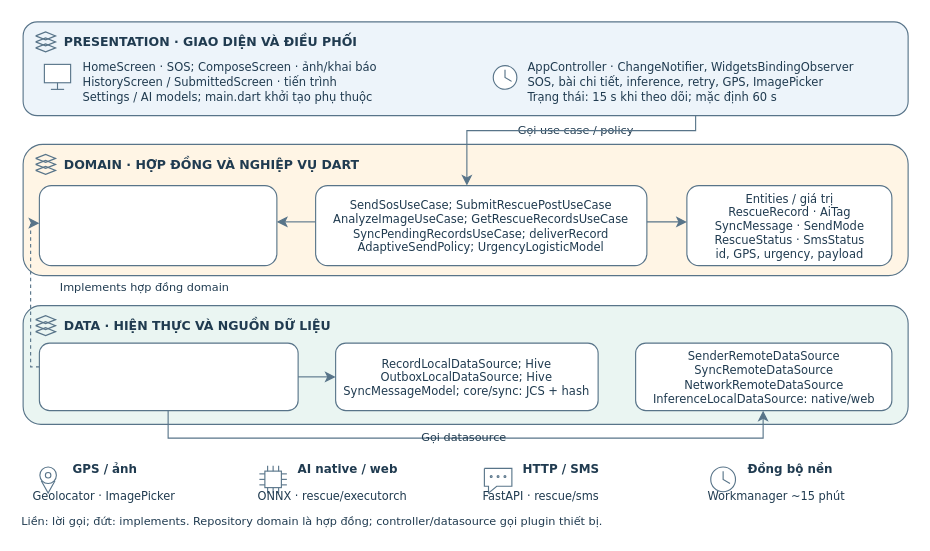
The diagram is 930 pixels wide and 551 high, and some of its shapes have lost their labels. Here are the shapes that lost their labels. From the top down, the centre of each, then its label:
the point at 157,225: Repository interfaces RescueRepository InferenceRepository NetworkRepository
the point at 168,376: RescueRepositoryImpl InferenceRepositoryImpl NetworkRepositoryImpl
